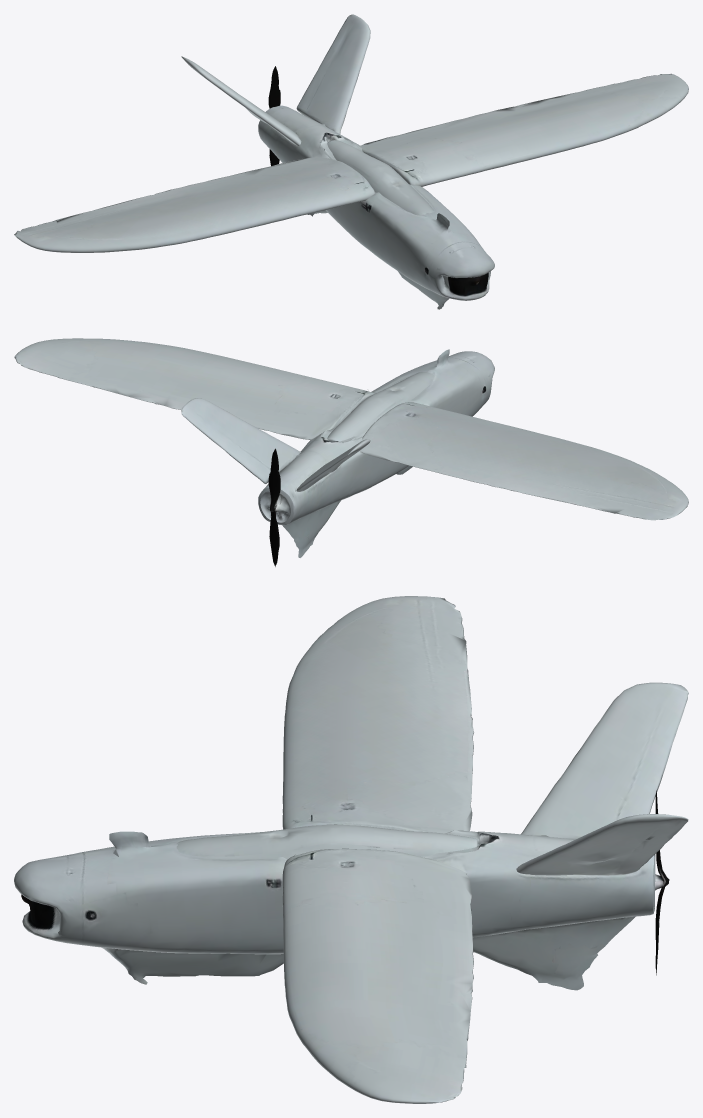
Rendered from leleka.glb.
3 views of the same model, one above another, from view 1: azimuth 30°, elevation 25°; view 2: azimuth 150°, elevation 25°; view 3: azimuth 270°, elevation 25° (orthographic). The views are drawn at different scales.
Parts seen in each view (by area): view 1: Object_2; view 2: Object_2; view 3: Object_2.
Part boxes in pixels (<box>): Object_2: <box>14,14,688,309</box>; Object_2: <box>14,338,688,566</box>; Object_2: <box>14,596,688,1103</box>.
Size of the model in its own units: 1.9 by 0.4221 by 1.07.
1 material, 1 textured.
